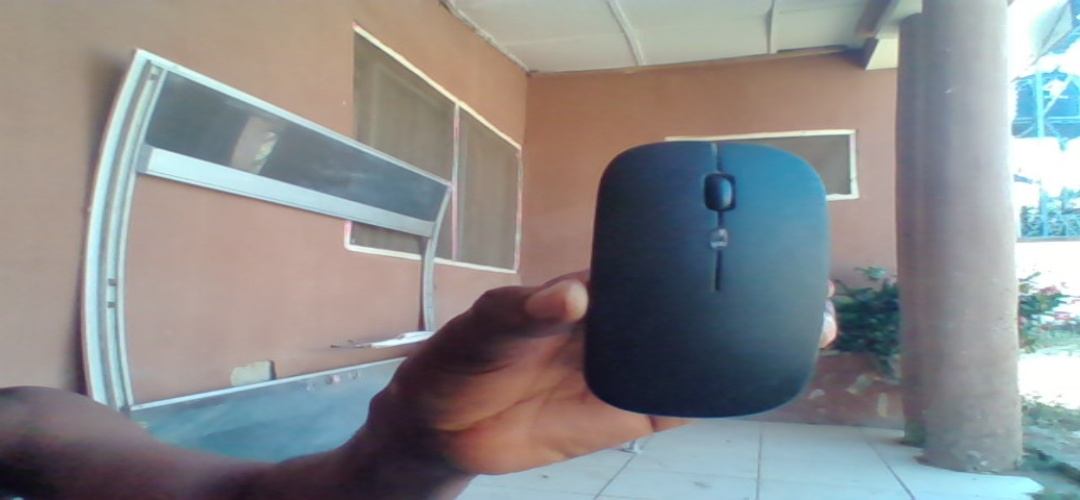wireless_mouse: (581, 134, 830, 423)
